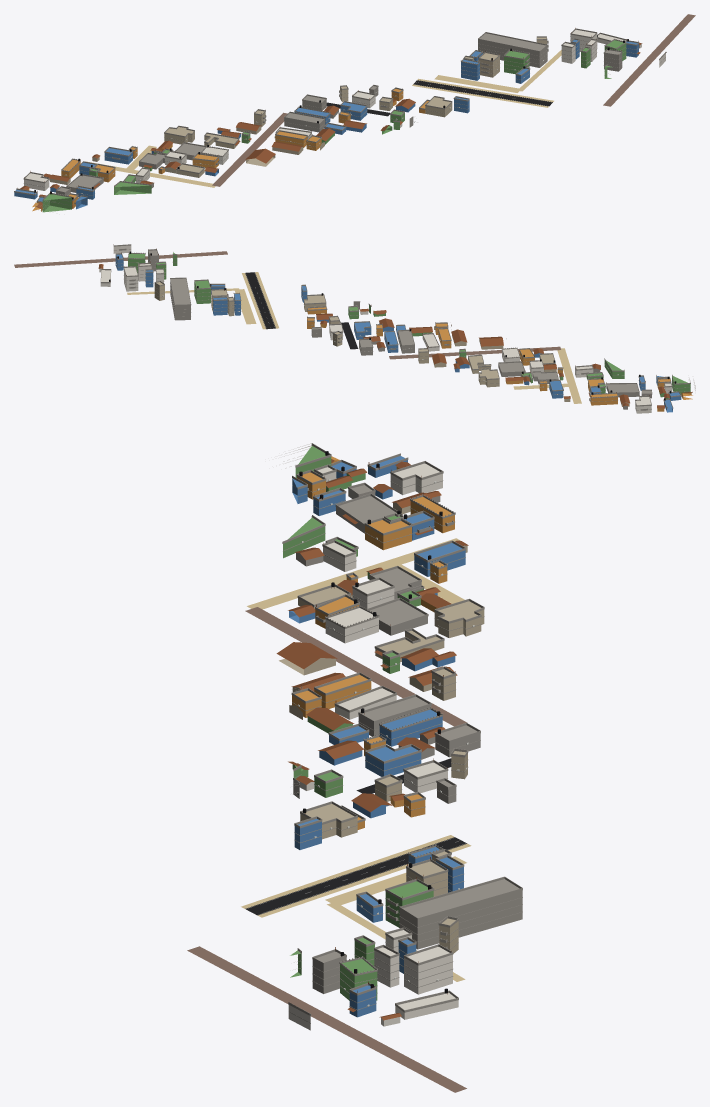
The model's file is zone_t5_3.glb.
3 renders of one model, top to bottom at view 1: azimuth 30°, elevation 25°; view 2: azimuth 150°, elevation 25°; view 3: azimuth 270°, elevation 25°, orthographic. The views are drawn at different scales.
Parts seen in each view (by area): view 1: parapet_t5_3, bld_beton_t5_3-col, bld_peinture_bleu_t5_3-col, bld_peinture_ecaillee_t5_3-col, bld_peinture_vert_t5_3-col, bld_peinture_blanc_t5_3-col, toit_tole_t5_3, bld_peinture_ocre_t5_3-col, route_residential_paves_t5_3, bandeau_t5_3, route_secondary_bitume_t5_3, accotement_t5_3 (+2 smaller); view 2: parapet_t5_3, bld_beton_t5_3-col, bld_peinture_bleu_t5_3-col, bld_peinture_blanc_t5_3-col, bld_peinture_ecaillee_t5_3-col, toit_tole_t5_3, bld_peinture_vert_t5_3-col, bld_peinture_ocre_t5_3-col, route_residential_paves_t5_3, bandeau_t5_3, route_secondary_bitume_t5_3, route_unclassified_terre_t5_3 (+2 smaller); view 3: parapet_t5_3, bld_beton_t5_3-col, bld_peinture_blanc_t5_3-col, bld_peinture_bleu_t5_3-col, bld_peinture_ecaillee_t5_3-col, toit_tole_t5_3, bld_peinture_vert_t5_3-col, bld_peinture_ocre_t5_3-col, route_residential_paves_t5_3, bandeau_t5_3, route_secondary_bitume_t5_3, accotement_t5_3 (+1 smaller).
Part boxes in pixels (x1,y1,x2,y2): parapet_t5_3: [14, 28, 665, 207]; bld_beton_t5_3-col: [44, 33, 622, 195]; bld_peinture_bleu_t5_3-col: [14, 39, 638, 209]; bld_peinture_ecaillee_t5_3-col: [50, 37, 546, 184]; bld_peinture_vert_t5_3-col: [42, 40, 626, 212]; bld_peinture_blanc_t5_3-col: [24, 29, 665, 190]; toit_tole_t5_3: [20, 41, 642, 208]; bld_peinture_ocre_t5_3-col: [27, 89, 428, 211]; route_residential_paves_t5_3: [212, 14, 695, 186]; bandeau_t5_3: [23, 38, 665, 211]; route_secondary_bitume_t5_3: [413, 80, 552, 106]; accotement_t5_3: [412, 78, 553, 107]; parapet_t5_3: [100, 244, 695, 408]; bld_beton_t5_3-col: [148, 250, 651, 409]; bld_peinture_bleu_t5_3-col: [115, 254, 681, 412]; bld_peinture_blanc_t5_3-col: [99, 245, 672, 413]; bld_peinture_ecaillee_t5_3-col: [154, 282, 629, 406]; toit_tole_t5_3: [98, 264, 692, 408]; bld_peinture_vert_t5_3-col: [128, 252, 690, 398]; bld_peinture_ocre_t5_3-col: [307, 307, 692, 411]; route_residential_paves_t5_3: [14, 251, 560, 359]; bandeau_t5_3: [114, 248, 695, 410]; route_secondary_bitume_t5_3: [245, 272, 275, 329]; route_unclassified_terre_t5_3: [557, 348, 581, 403]; parapet_t5_3: [282, 443, 522, 1015]; bld_beton_t5_3-col: [293, 485, 522, 993]; bld_peinture_blanc_t5_3-col: [288, 463, 458, 1030]; bld_peinture_bleu_t5_3-col: [289, 456, 465, 1017]; bld_peinture_ecaillee_t5_3-col: [279, 502, 484, 953]; toit_tole_t5_3: [276, 459, 468, 1020]; bld_peinture_vert_t5_3-col: [283, 446, 433, 1000]; bld_peinture_ocre_t5_3-col: [292, 456, 454, 829]; route_residential_paves_t5_3: [187, 607, 467, 1092]; bandeau_t5_3: [283, 455, 522, 1023]; route_secondary_bitume_t5_3: [245, 837, 466, 915]; accotement_t5_3: [241, 835, 471, 917].
Size of the model in its own units: 558 by 14 by 125.
